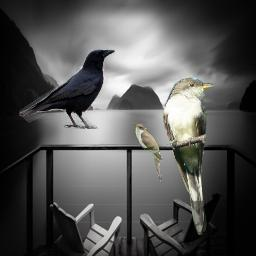Crow: (19, 49, 115, 129)
Cuckoo: (163, 77, 214, 236), (131, 122, 163, 183)
